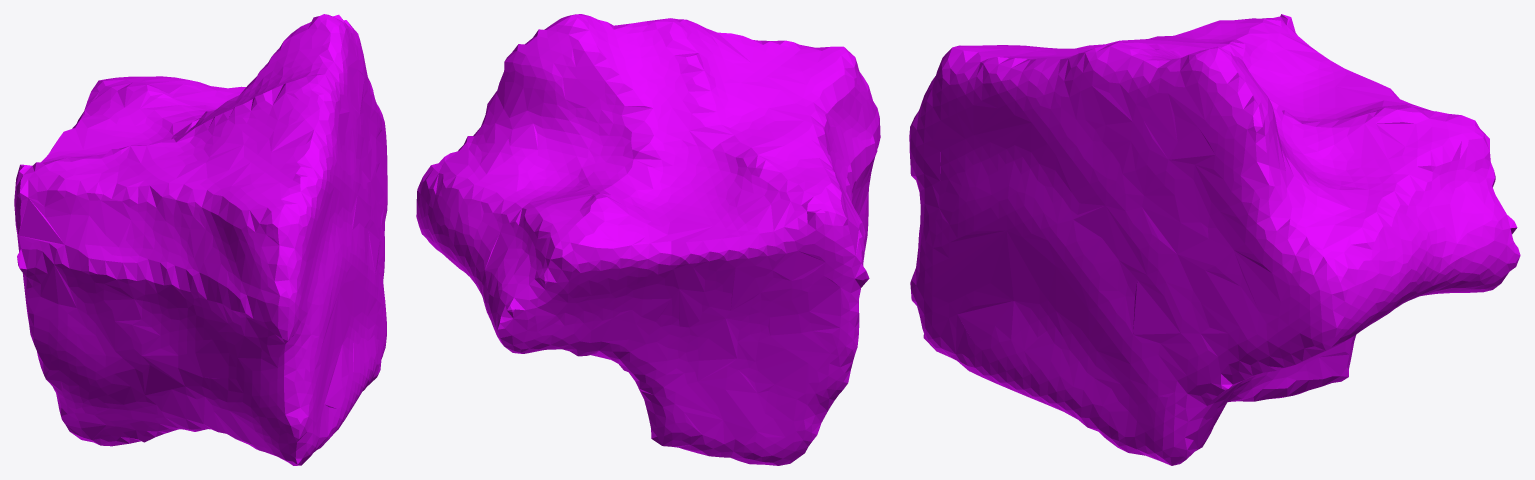
File: Model_110_RH__Parietal_area_PG_(PG).obj
3 views of the same model, side by side, from view 1: azimuth 30°, elevation 25°; view 2: azimuth 150°, elevation 25°; view 3: azimuth 270°, elevation 25° (orthographic). The views are drawn at different scales.
Size of the model in its own units: 3.33 by 3 by 3.72.
